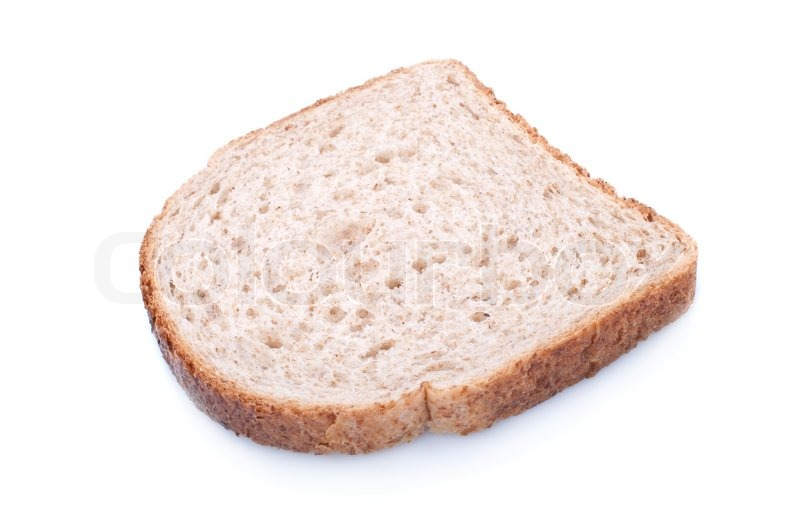slice of bread: (143, 61, 696, 450)
